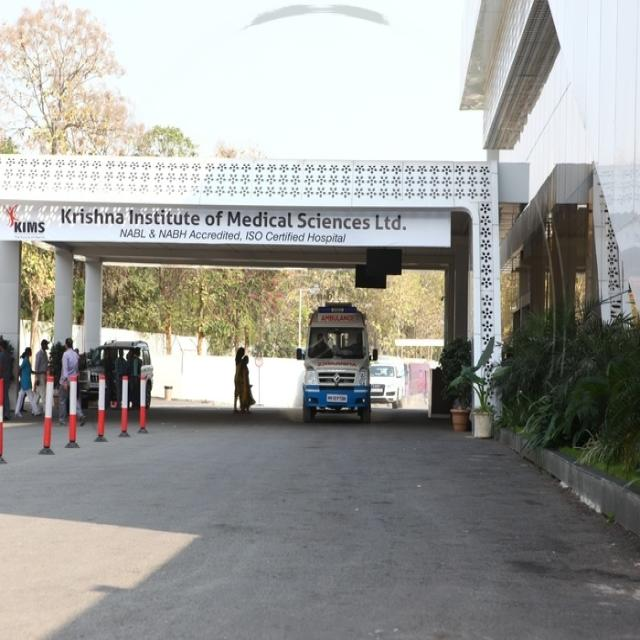emergency: (296, 303, 371, 423)
